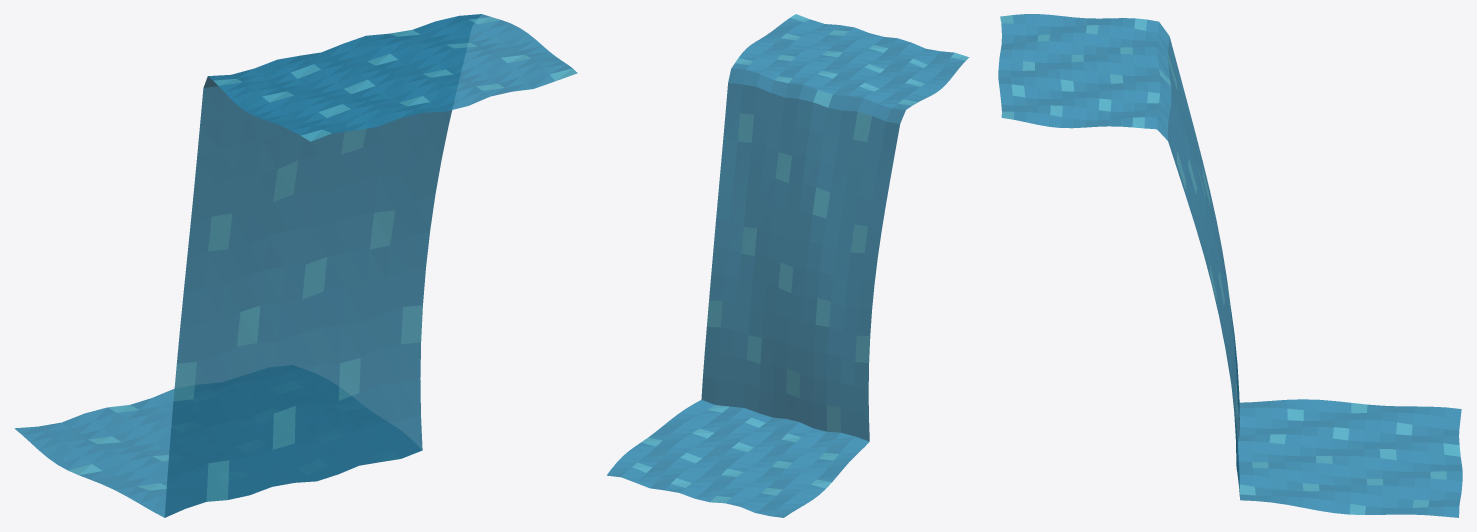
The model's file is CascadeWater.glb.
The picture shows the model from 3 angles, left to right: view 1: azimuth 30°, elevation 25°; view 2: azimuth 150°, elevation 25°; view 3: azimuth 270°, elevation 25°; orthographic projection. The views are drawn at different scales.
Visible parts, largest first — view 1: CascadeWater; view 2: CascadeWater; view 3: CascadeWater.
Part boxes in pixels (x1,y1,x2,y2): CascadeWater: (14, 14, 577, 517); CascadeWater: (606, 14, 969, 517); CascadeWater: (998, 14, 1462, 517).
Size of the model in its own units: 1.7 by 2.85 by 3.
